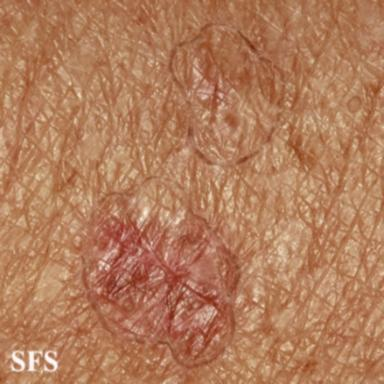Porokeratosis: (83, 178, 239, 366), (170, 24, 281, 166)
